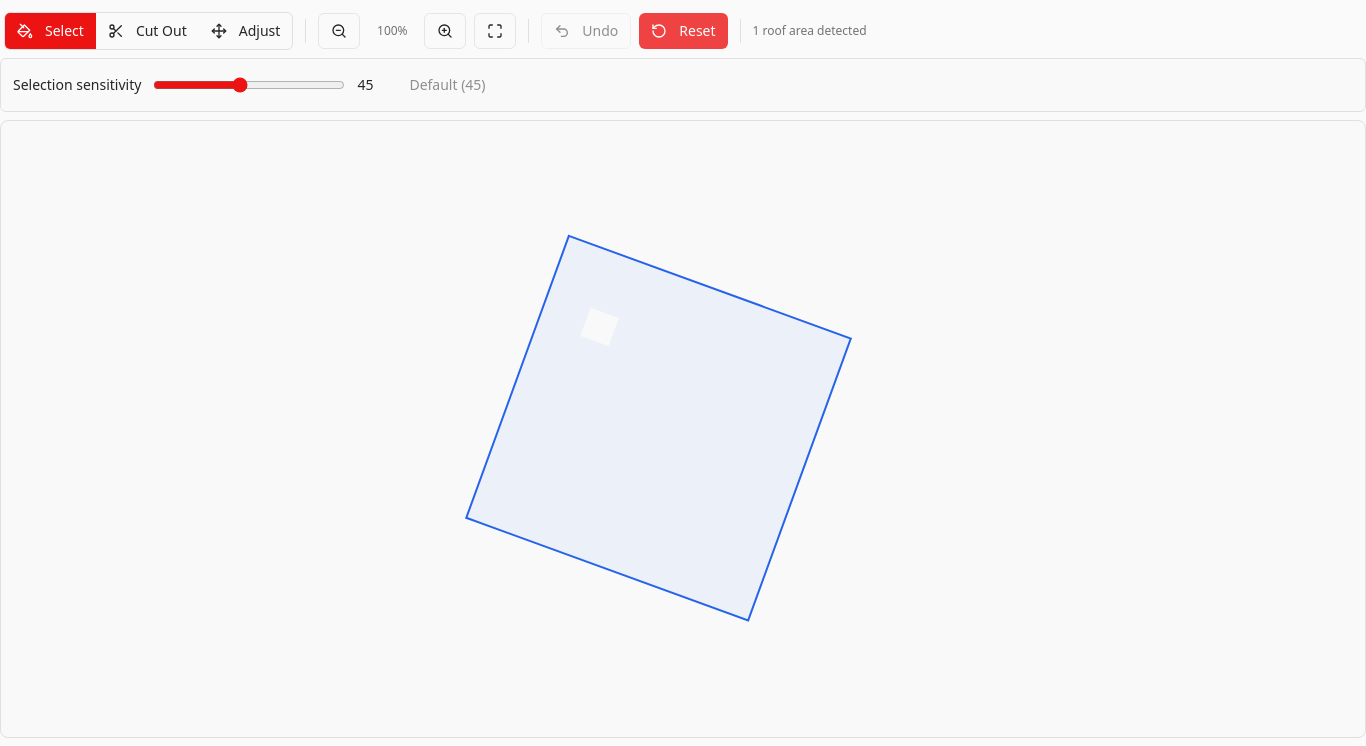
Test: recognises an exact PDF endpoint connection within the PDF snap radius beyond the outline hit radius
This screenshot has width=1366, height=746.
Click the button "Adjust": (246, 31) [199,13,292,49]
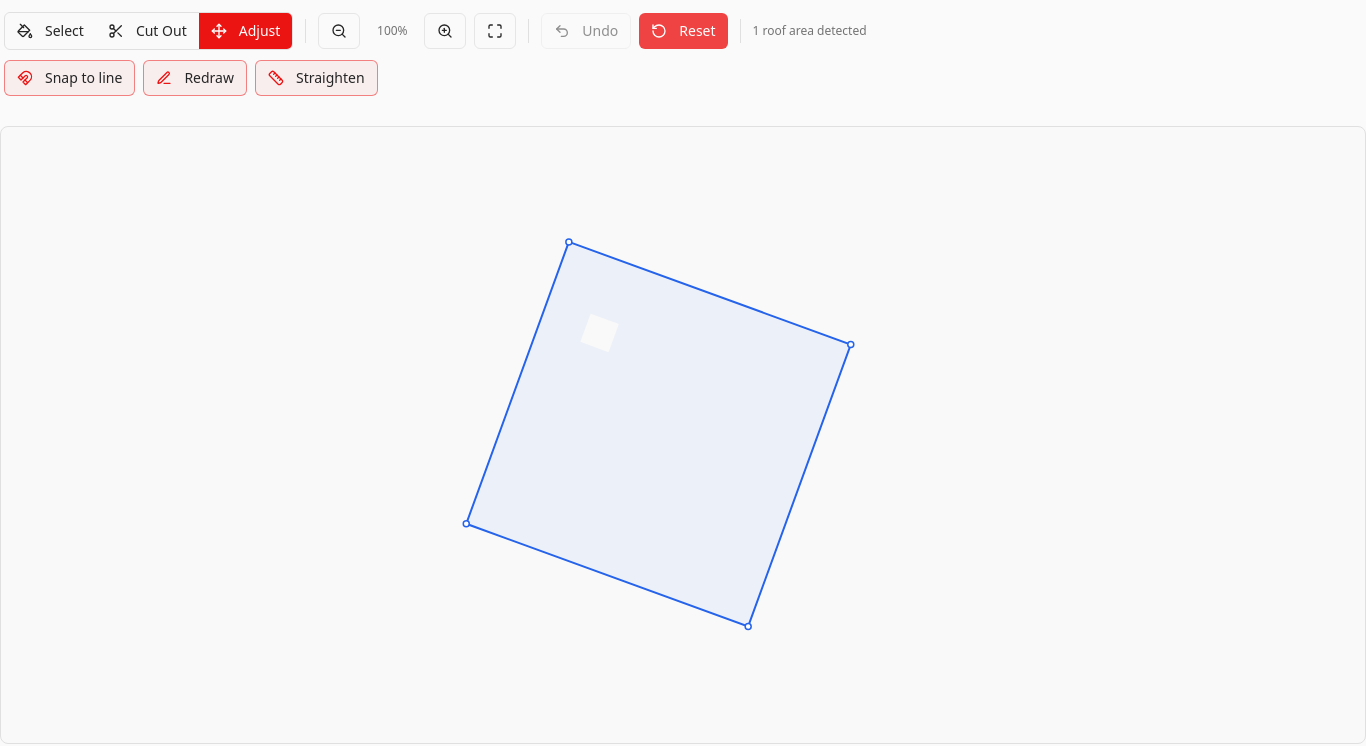
Click the button "Redraw": (195, 78) [143,60,247,96]
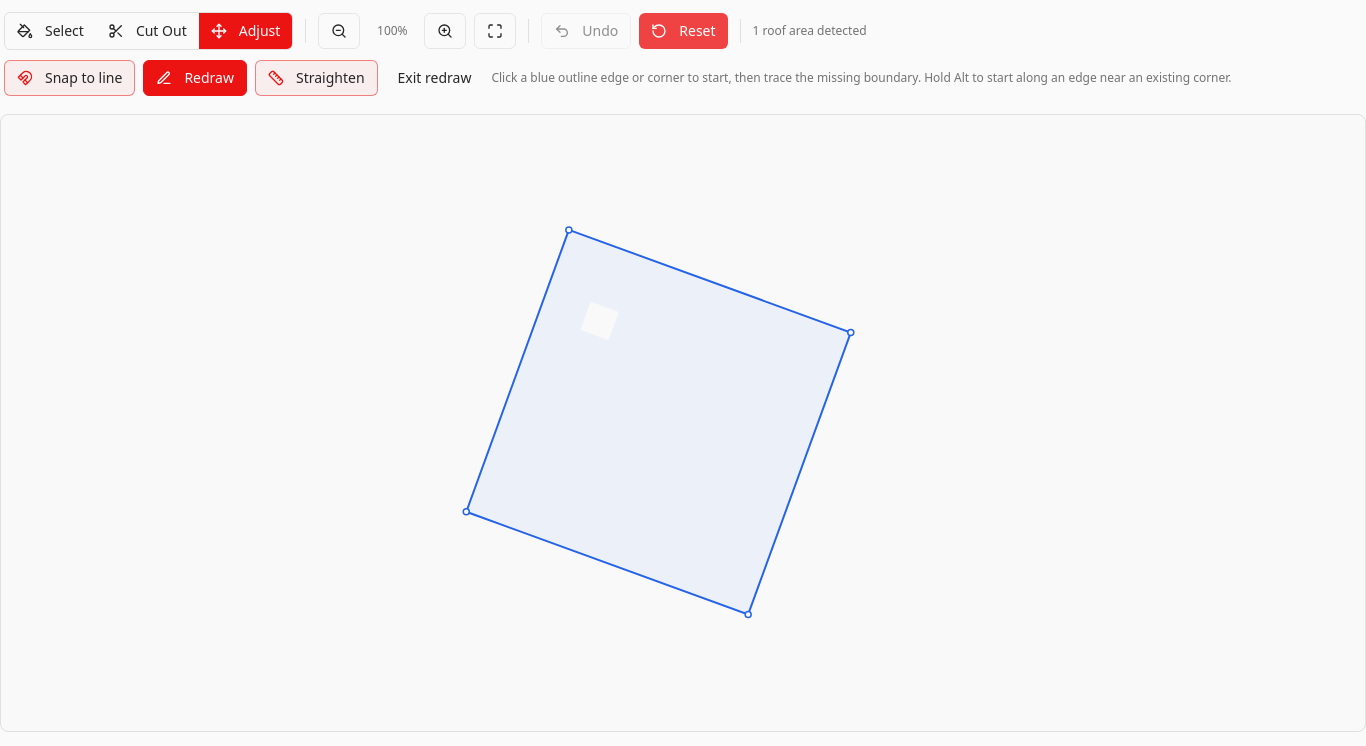
Press the mouse on the icon with test id "polyline-redraw-overlay": (683, 423) [308,123,1058,723]
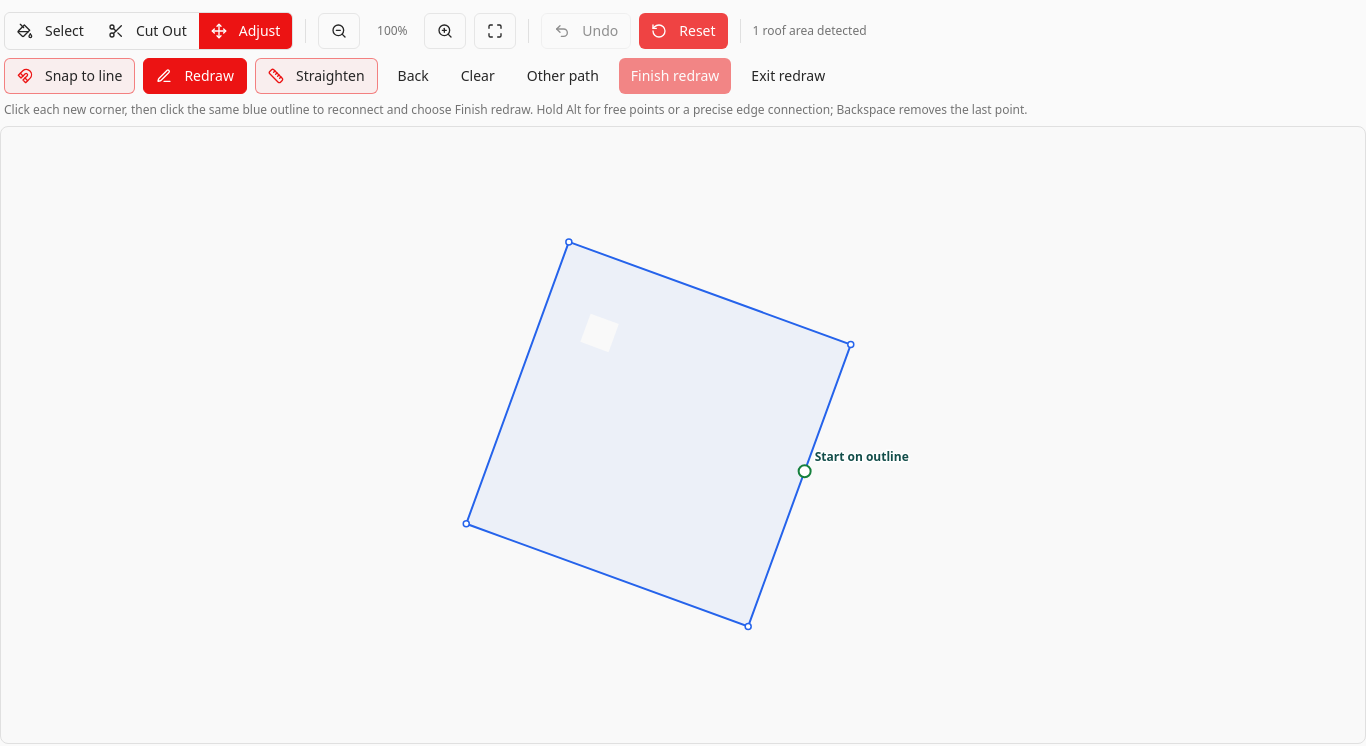
Press the mouse on the icon with test id "polyline-redraw-overlay": (683, 435) [308,135,1058,735]
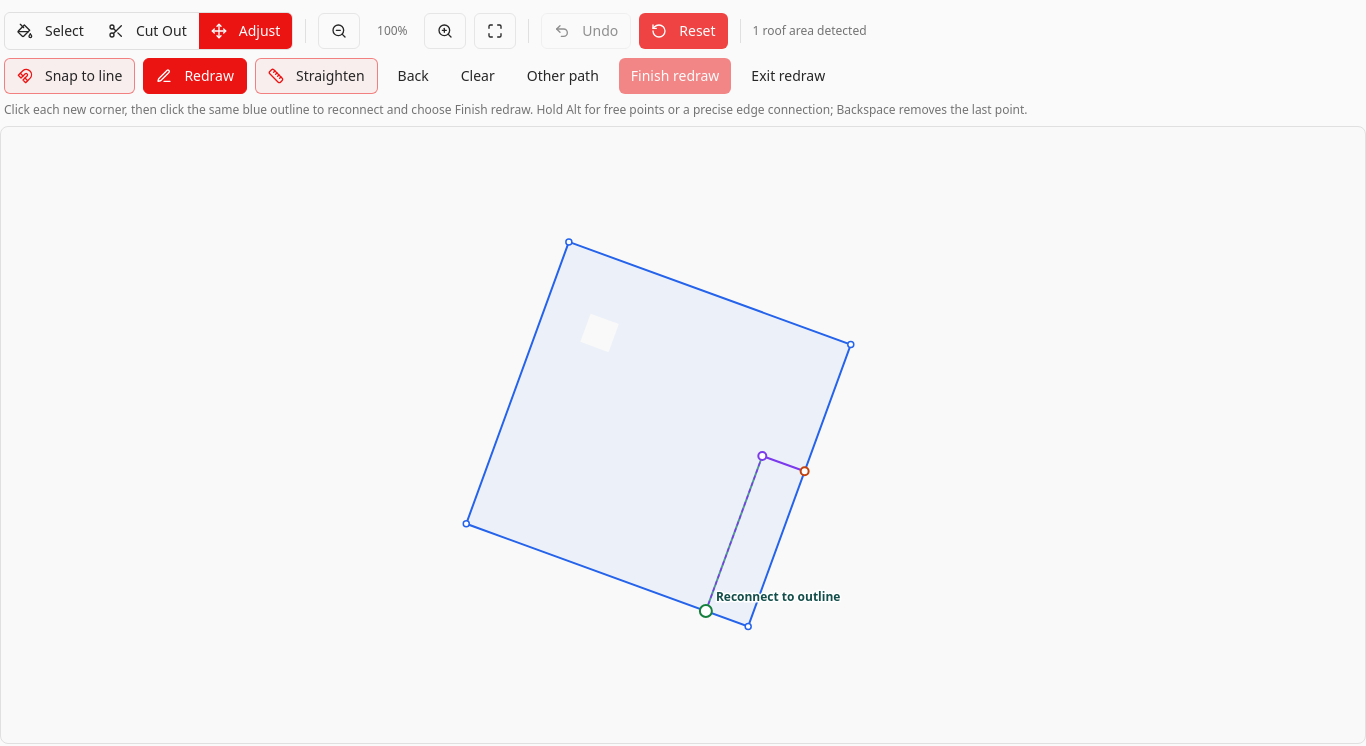
Expected: the button "Finish redraw" is disabled, [619,58,731,94]
Press the mouse on the icon with test id "polyline-redraw-overlay": (683, 435) [308,135,1058,735]
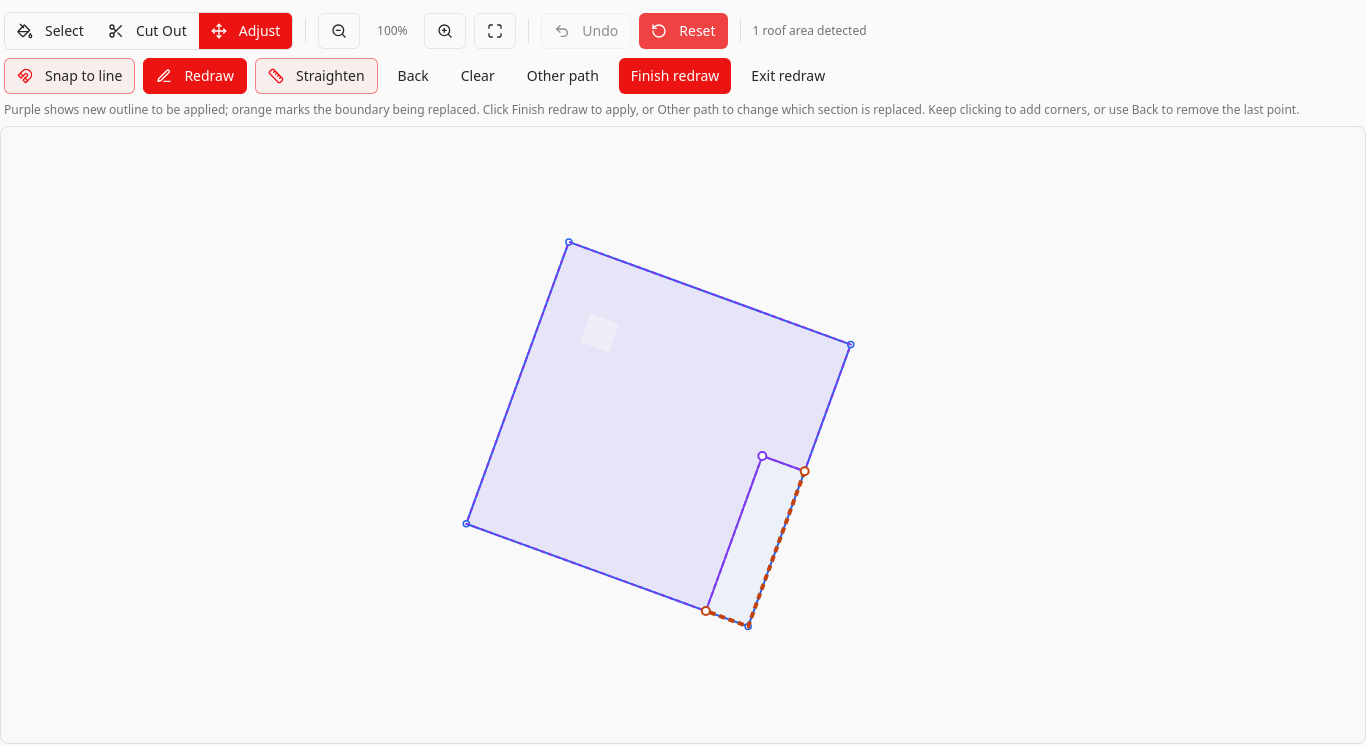
Expected: the button "Finish redraw" is enabled, [619,58,731,94]
